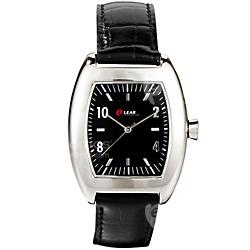watch: (61, 57, 205, 193)
